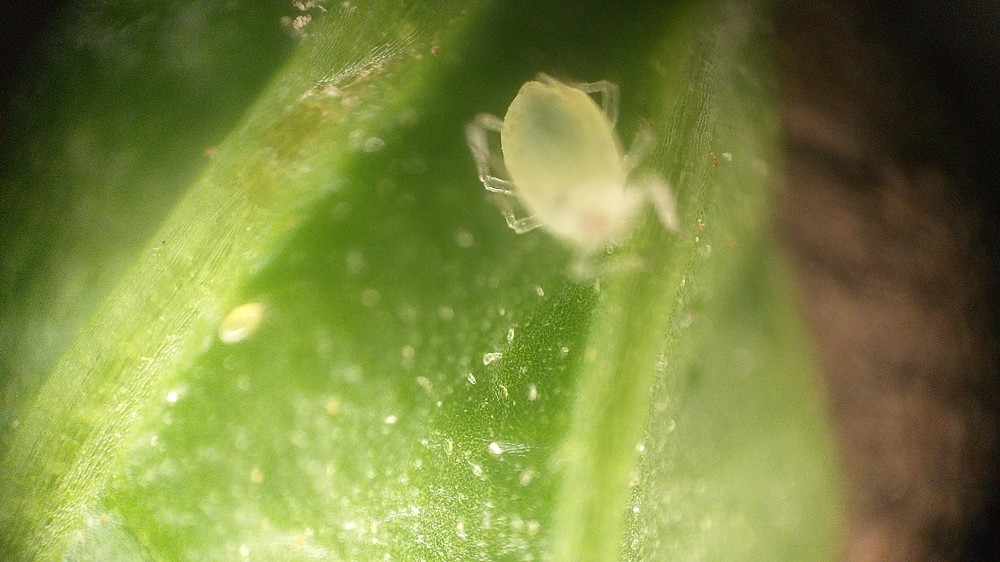Pulgon: (454, 62, 717, 298)
